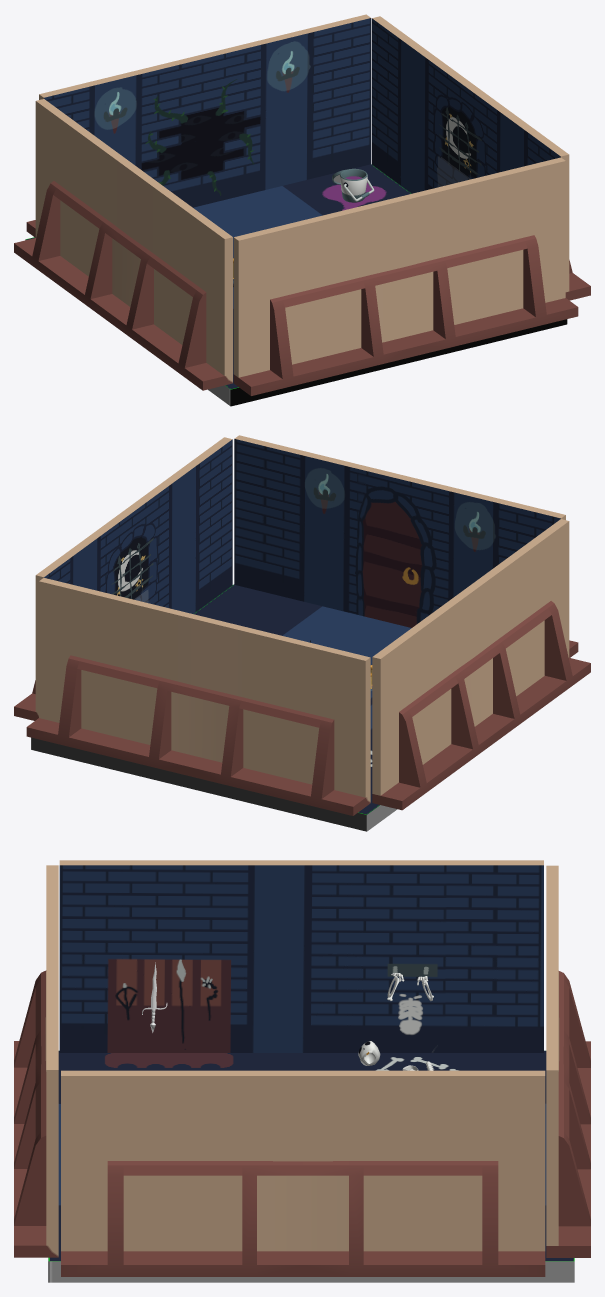
File: TestScene.fbx
The picture shows the model from 3 angles, top to bottom: view 1: azimuth 30°, elevation 25°; view 2: azimuth 150°, elevation 25°; view 3: azimuth 270°, elevation 25°; orthographic projection. The views are drawn at different scales.
Parts seen in each view (by area): view 1: Box011, Box009, Box012, Box010, Box006, Buvket001; view 2: Box009, Box011, Box012, Box010, Box006; view 3: Box010, Box012, Box006, Box011, Box009.
Part boxes in pixels (x1,y1,x2,y2): Box011: (233,157,578,395); Box009: (26,14,371,237); Box012: (14,99,232,390); Box010: (372,16,590,300); Box006: (25,164,567,406); Buvket001: (339,168,367,202); Box009: (26,578,370,815); Box011: (234,435,578,657); Box012: (372,519,590,810); Box010: (14,437,232,720); Box006: (31,584,411,831); Box010: (61,1070,545,1276); Box012: (59,860,543,1052); Box006: (48,1050,574,1282); Box011: (14,865,58,1257); Box009: (546,865,590,1257).
Size of the model in its own units: 2099 by 850 by 2106.
